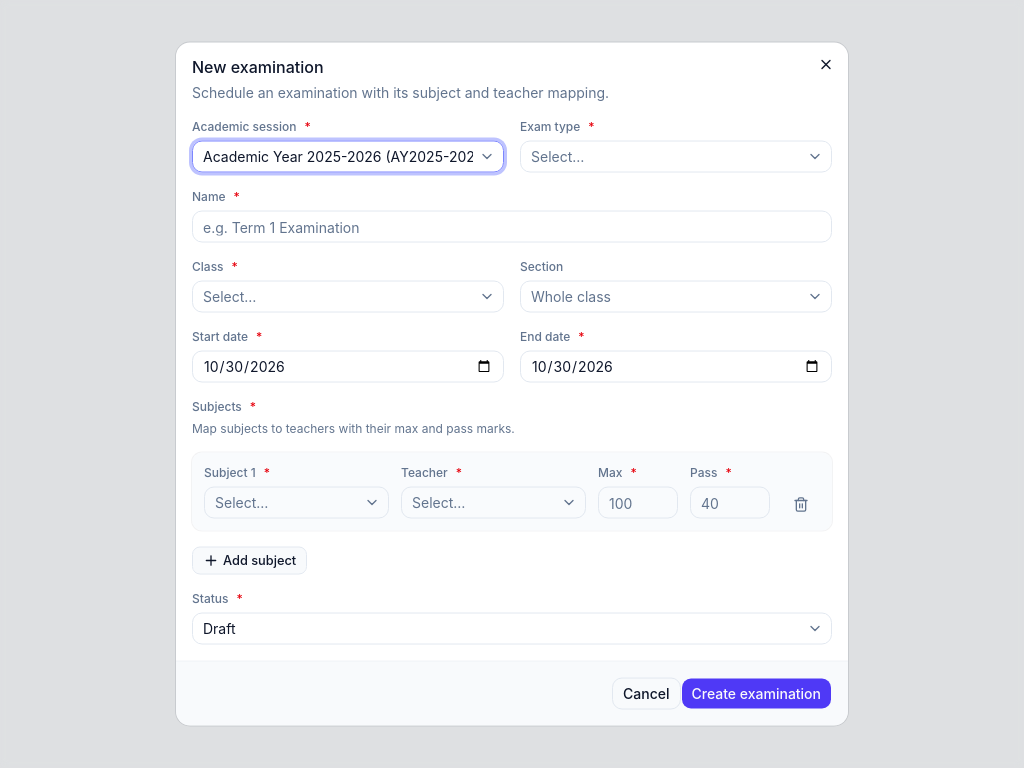
Test: ExaminationFormDialog create — ACTIVE session default › keeps an explicit non-ACTIVE choice
The width and height of the screenshot is (1024, 768).
Press the mouse on the dropdown named "academic session" at (348, 156), box [192,140,504,172]
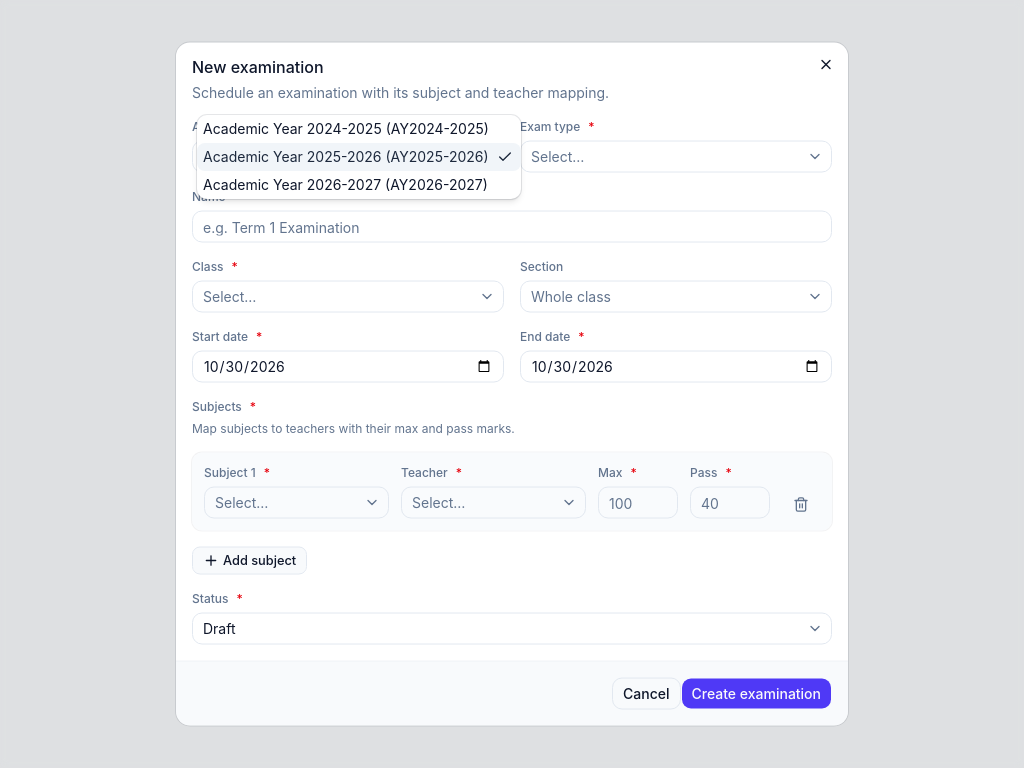
Click the option "Academic Year 2026-2027 (AY2026-2027)" at (359, 184), box [197,170,521,198]
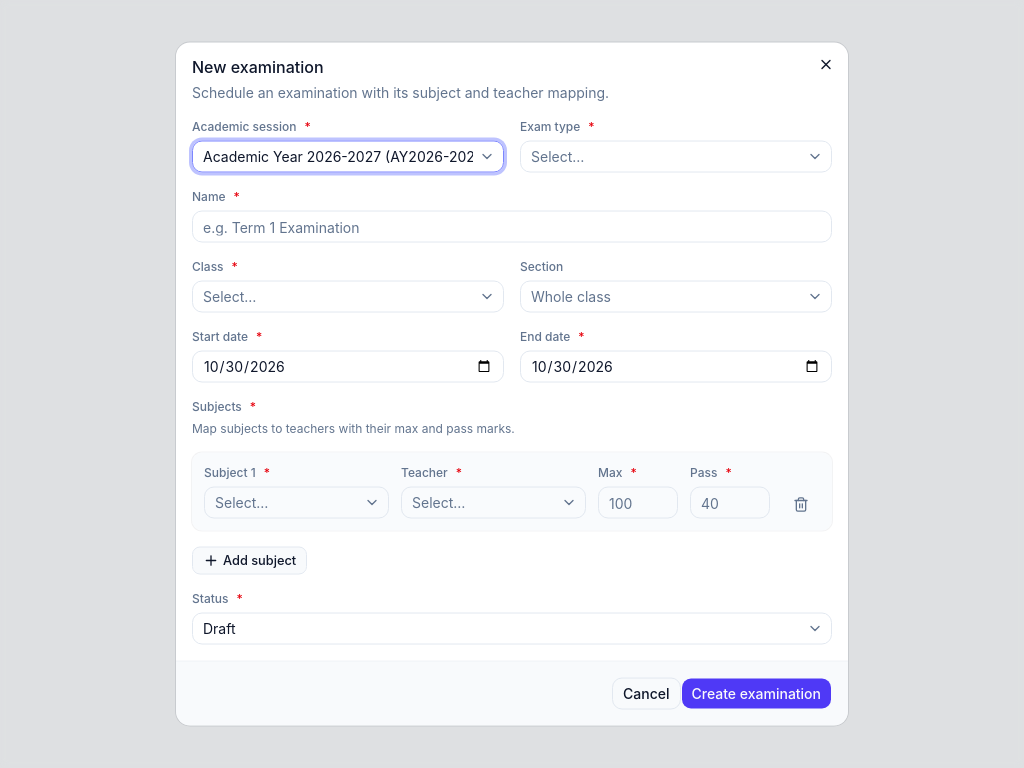
Expected: the dropdown named "academic session" reads "Academic Year 2026-2027 (AY2026-2027)", [192,140,504,172]
